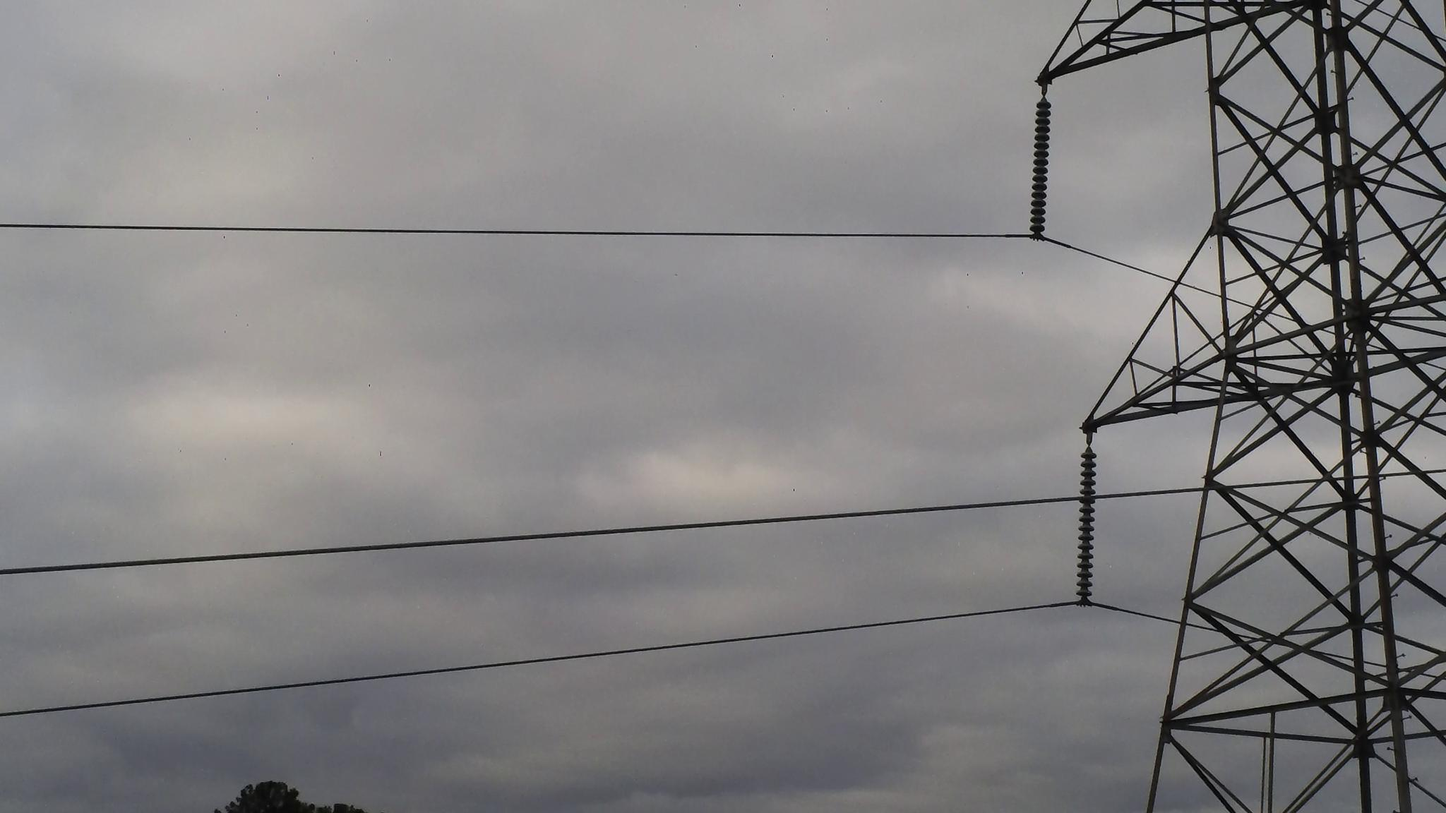tower: (1028, 1, 1446, 813)
